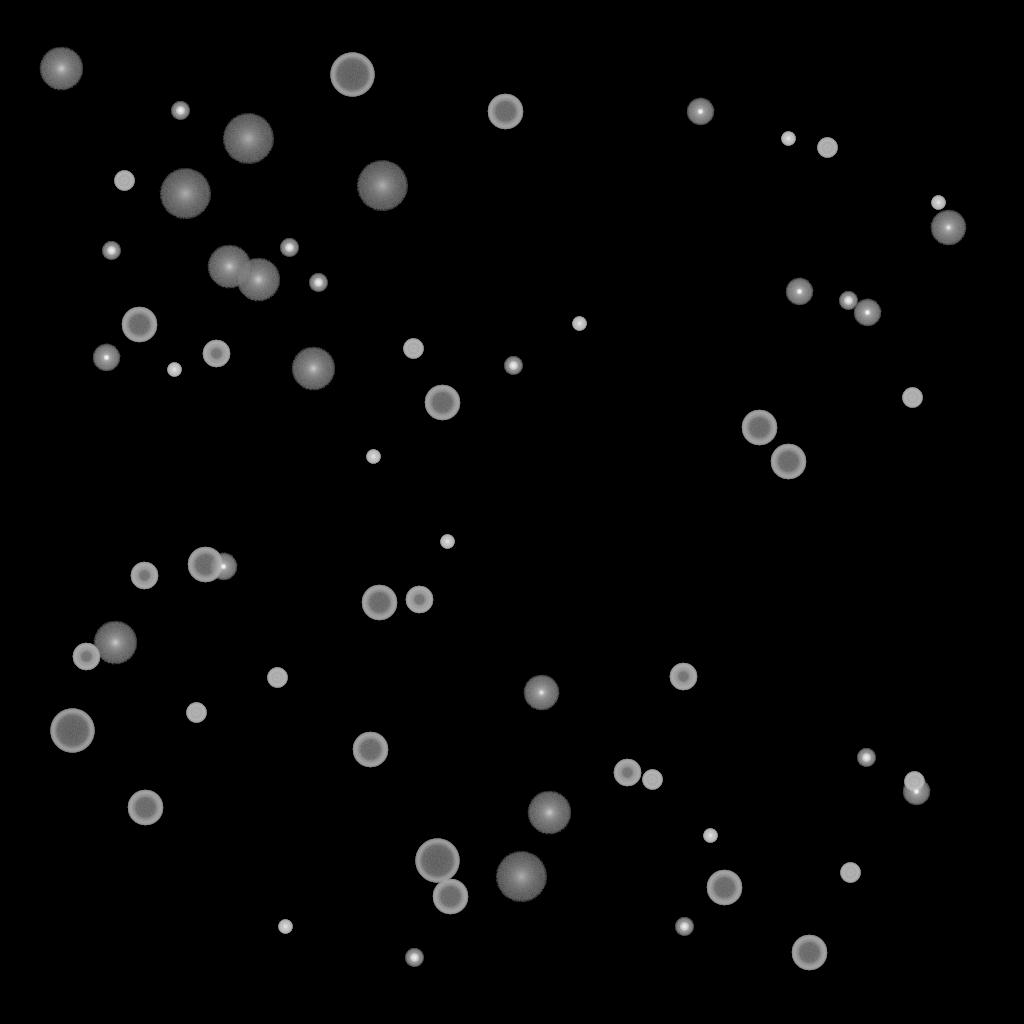depth:-10: (853, 299, 881, 327), (902, 778, 930, 806), (209, 553, 237, 581), (92, 344, 120, 372), (686, 98, 714, 126), (785, 278, 813, 306)
depth:-20: (504, 357, 522, 375), (405, 949, 423, 967), (675, 918, 693, 936), (280, 239, 298, 257), (309, 274, 327, 292), (857, 749, 875, 767), (102, 242, 120, 260), (171, 102, 189, 120), (839, 292, 857, 310)
depth:-30: (703, 829, 717, 843), (440, 535, 454, 549), (781, 132, 795, 146), (931, 196, 945, 210), (278, 920, 292, 934), (167, 363, 181, 377), (572, 317, 586, 331), (366, 450, 380, 464)
depth:-40: (642, 770, 662, 790), (267, 668, 287, 688), (840, 863, 860, 883), (904, 772, 924, 792), (403, 339, 423, 359), (902, 388, 922, 408), (817, 138, 837, 158), (186, 703, 206, 723), (114, 171, 134, 191)
depth:-50: (669, 663, 697, 691), (202, 340, 230, 368), (405, 586, 433, 614), (72, 643, 100, 671), (613, 759, 641, 787), (130, 562, 158, 590)
depth:-60: (361, 585, 397, 621), (187, 547, 223, 583), (432, 879, 468, 915), (706, 870, 742, 906), (352, 732, 388, 768), (791, 935, 827, 971), (121, 307, 157, 343), (127, 790, 163, 826), (770, 444, 806, 480), (424, 385, 460, 421), (487, 94, 523, 130), (741, 410, 777, 446)
depth:-70: (50, 709, 94, 753), (415, 839, 459, 883), (330, 53, 374, 97)
depth:0: (523, 675, 559, 711), (930, 210, 966, 246)
depth:10: (93, 621, 137, 665), (207, 245, 251, 289), (527, 791, 571, 835), (236, 258, 280, 302), (291, 347, 335, 391), (39, 47, 83, 91)
depth:20: (222, 114, 274, 164), (356, 161, 408, 211), (159, 169, 211, 219), (495, 852, 547, 902)
